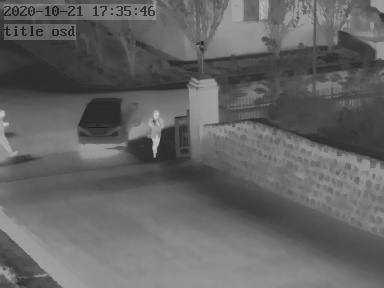person: (1, 108, 16, 159), (148, 110, 164, 157)
vehicle: (73, 96, 139, 148)
